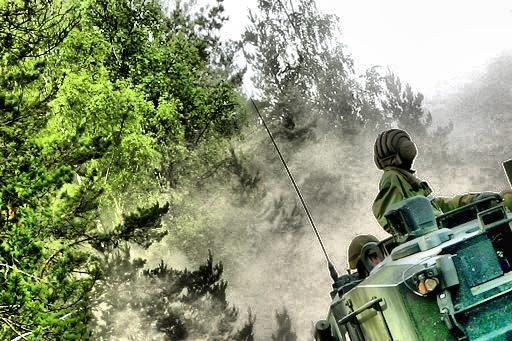tanks: (315, 197, 512, 341), (507, 163, 512, 179)
